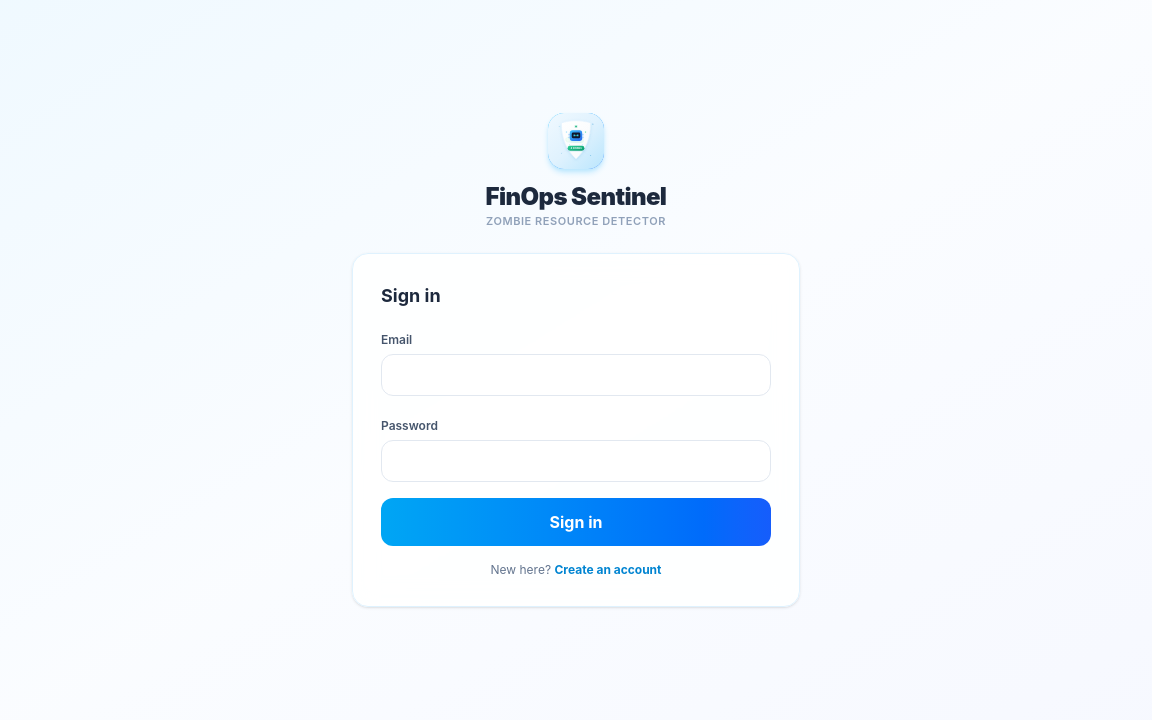
Test case: authentication › signs out
This screenshot has width=1152, height=720.
Step 1. Type "user@example.com" into the field labelled "Email" → (576, 375), box left=381, top=354, right=771, bottom=396
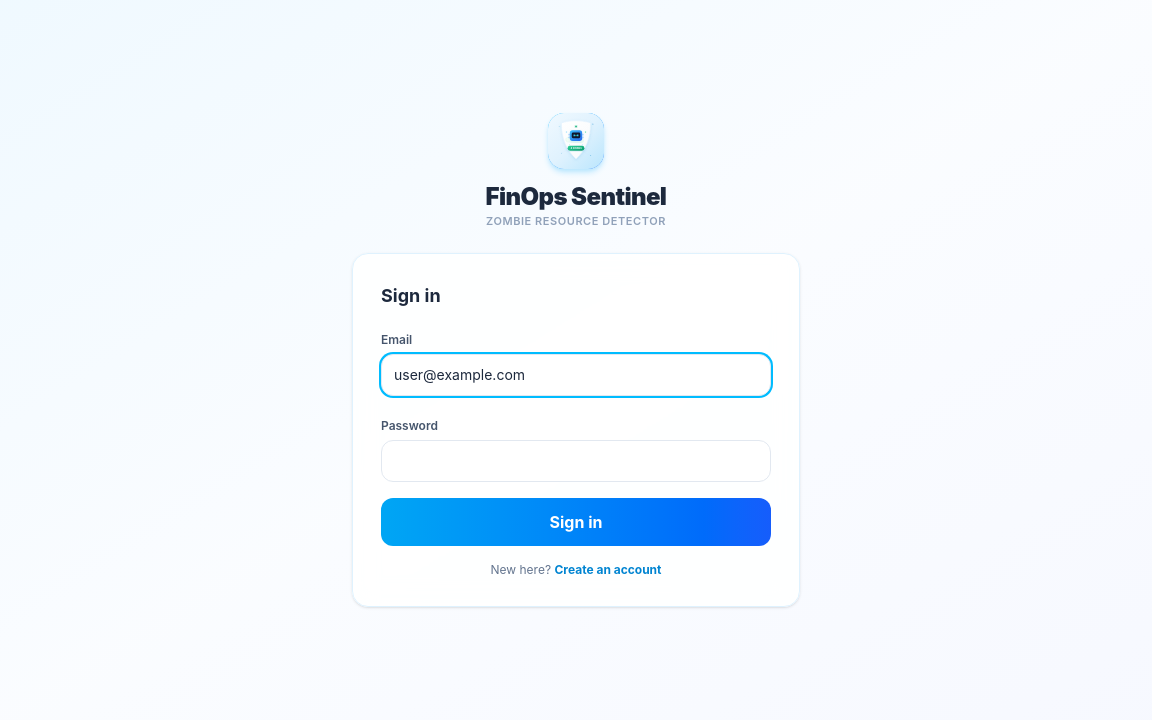
Step 2. Type "userpass12" into the password field labelled "Password" → (576, 461), box left=381, top=440, right=771, bottom=482
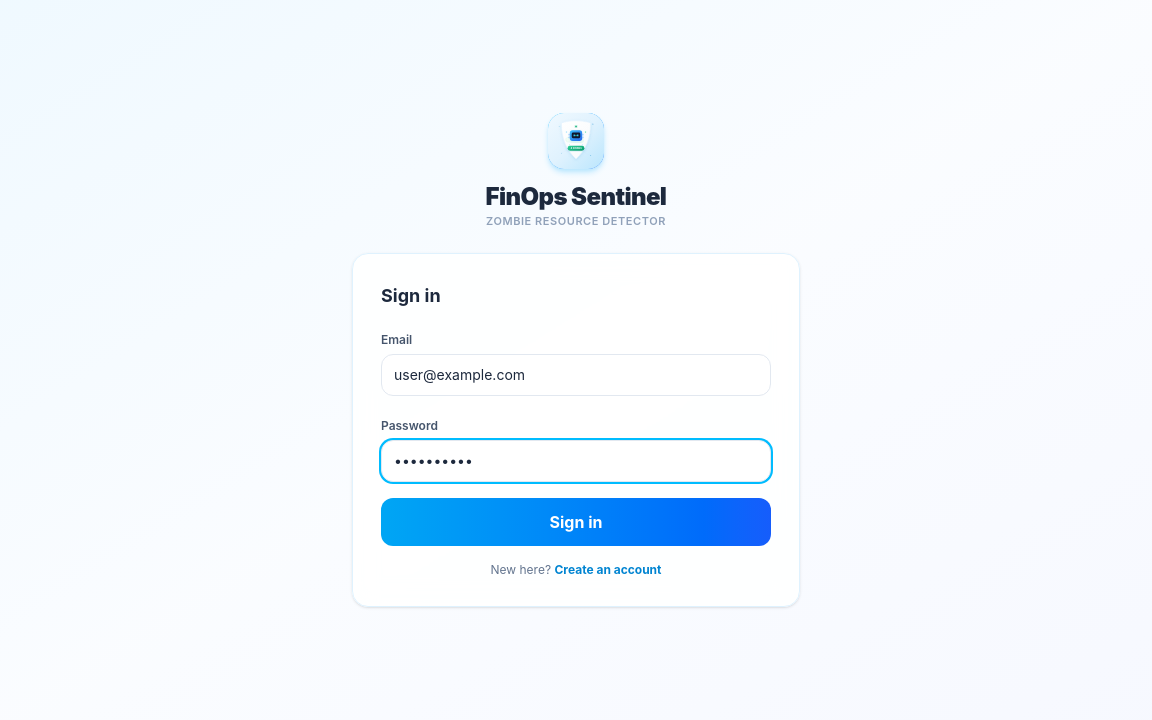
Step 3. Click the button "Sign in" → (576, 522), box left=381, top=498, right=771, bottom=546
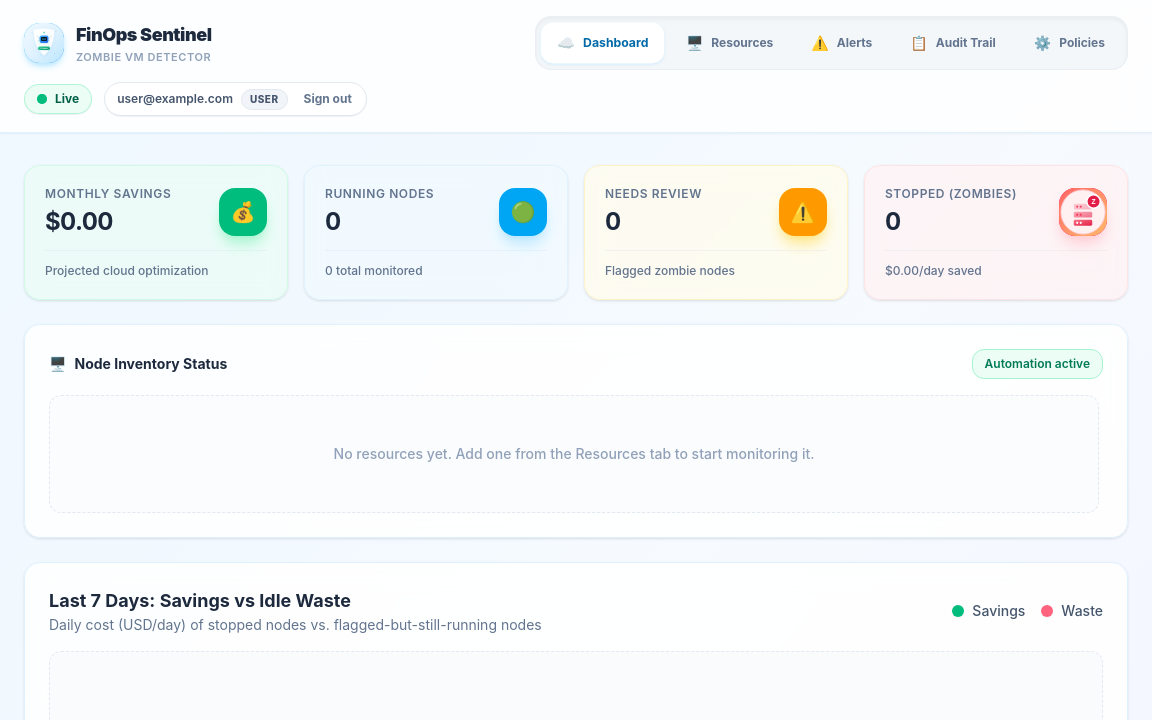
Step 4. Click the button "Sign out" → (328, 99), box left=296, top=87, right=360, bottom=111
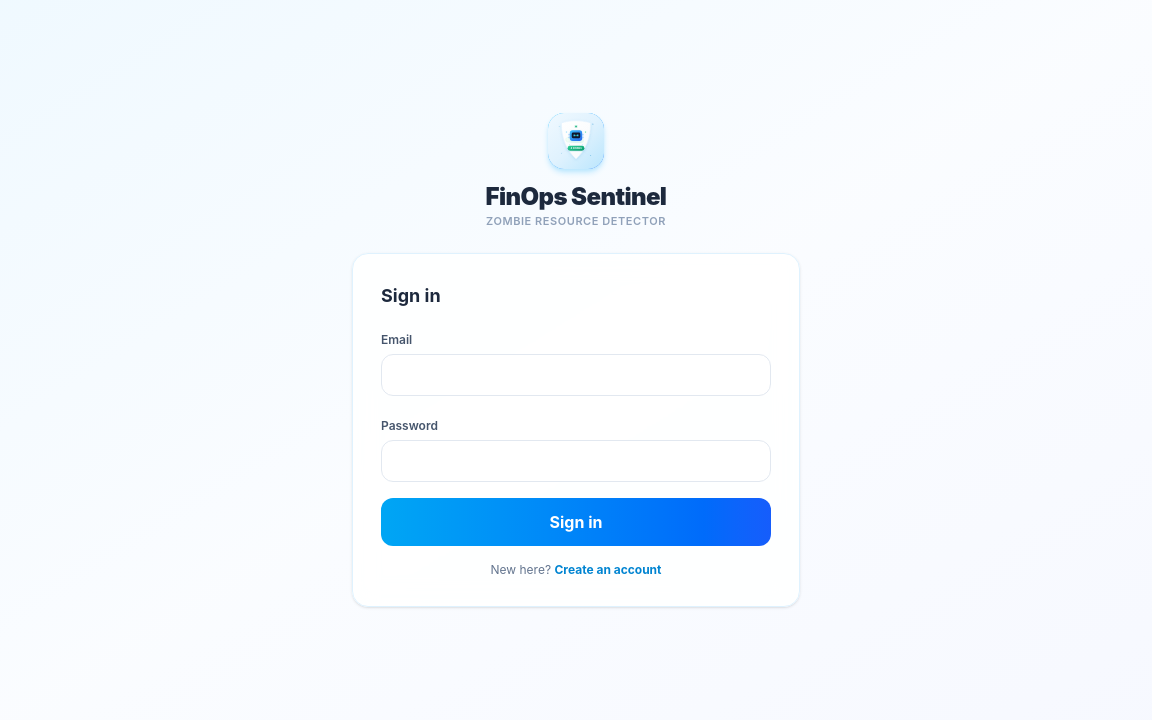
Expected: the heading "Sign in" is shown, left=381, top=285, right=441, bottom=306
